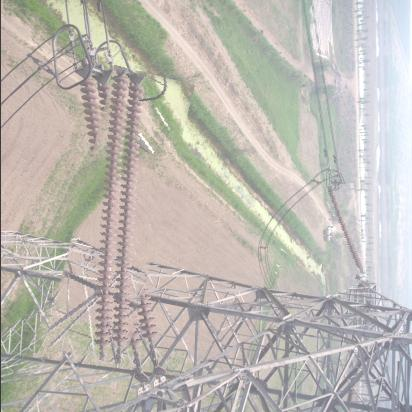insulator: (62, 69, 178, 365), (331, 185, 364, 278)
